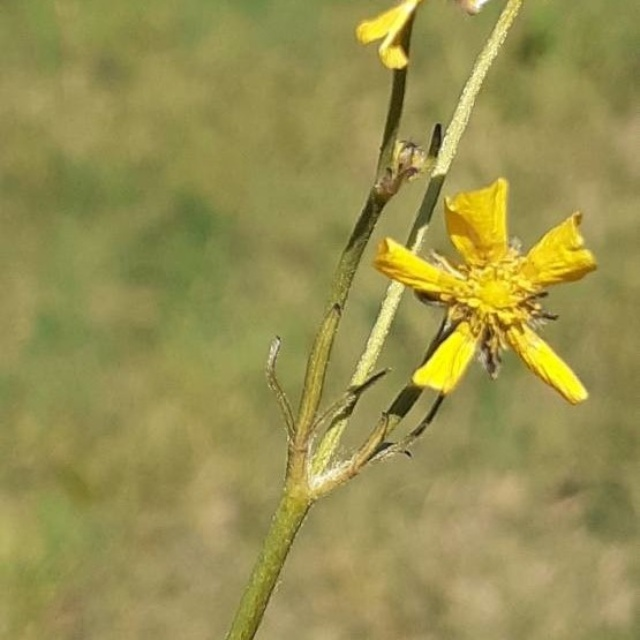obstacle: (273, 52, 570, 503)
